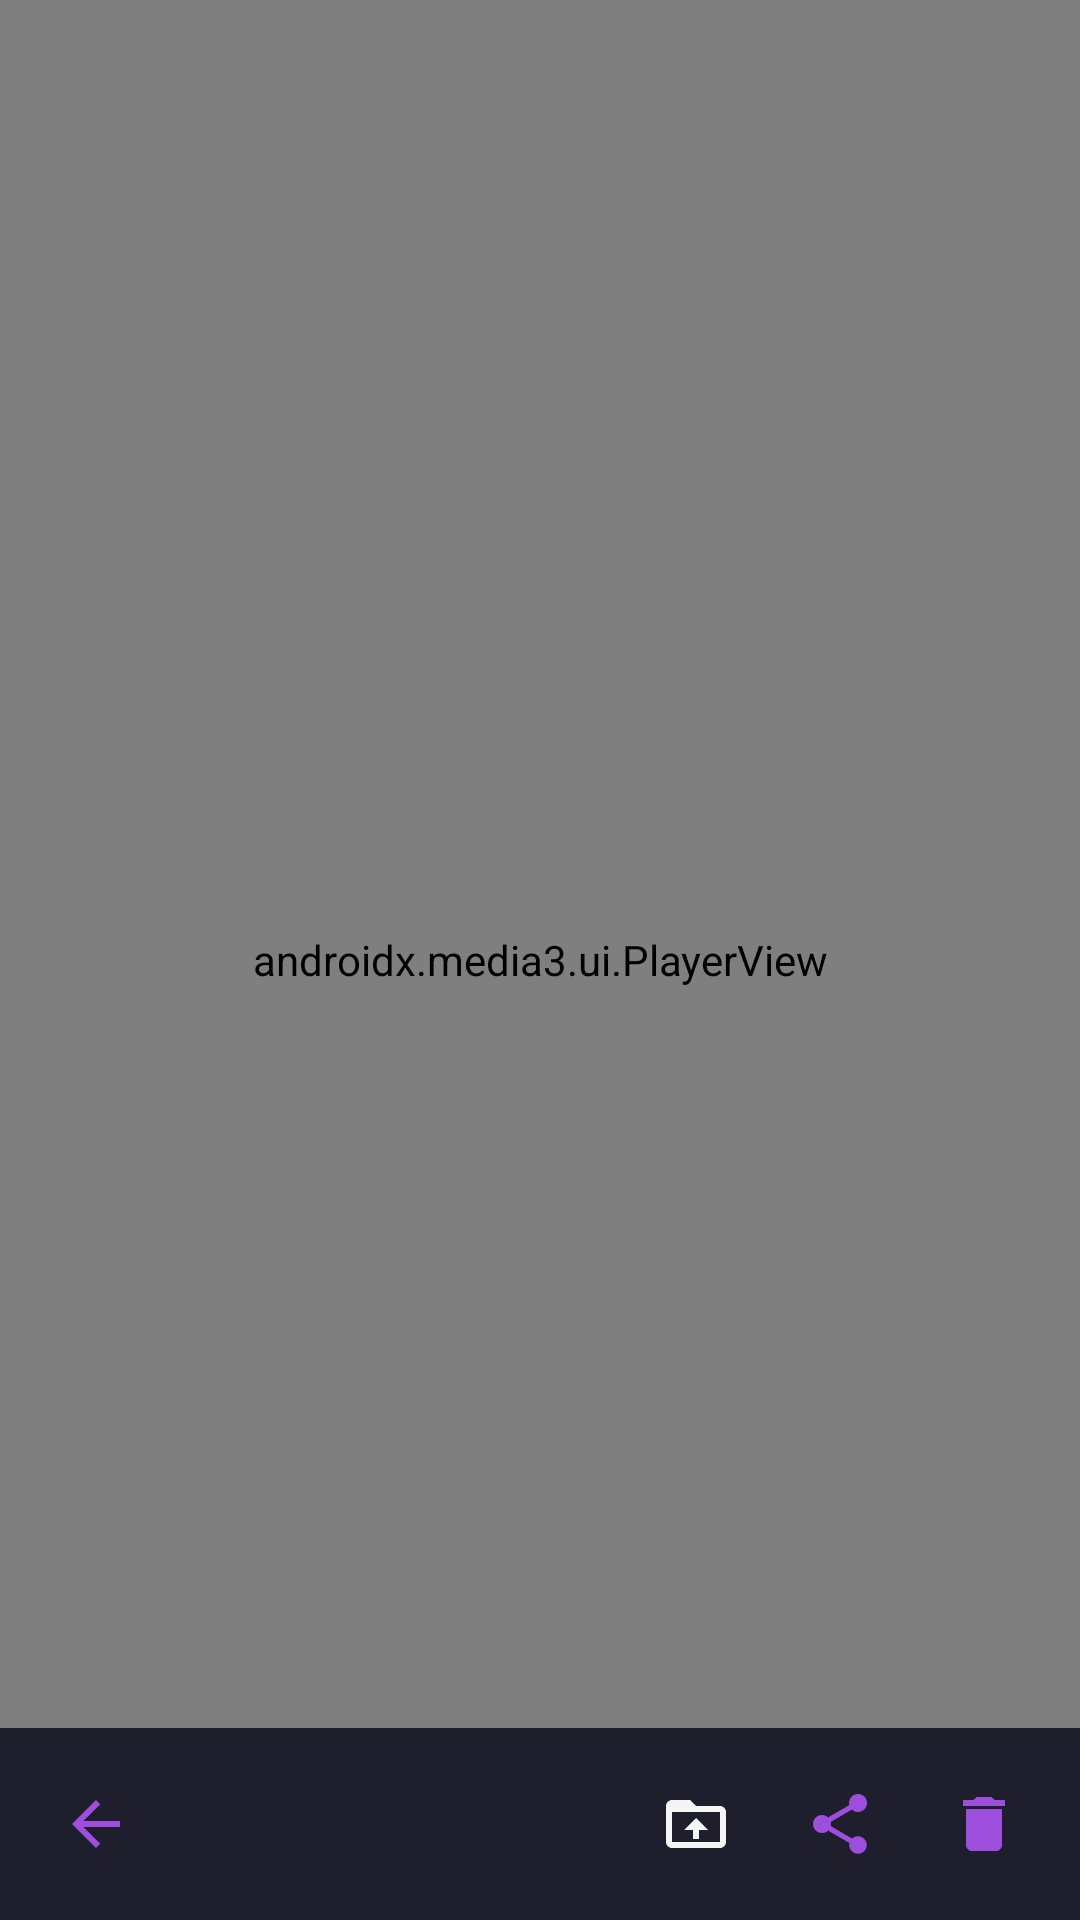

Icon click points for this 1080 x 1920 phone screenshot, format (x,y):
Atrás: (96,1824)
Borrar: (984,1824)
Compartir: (840,1824)
Mover a Bóveda: (696,1824)
